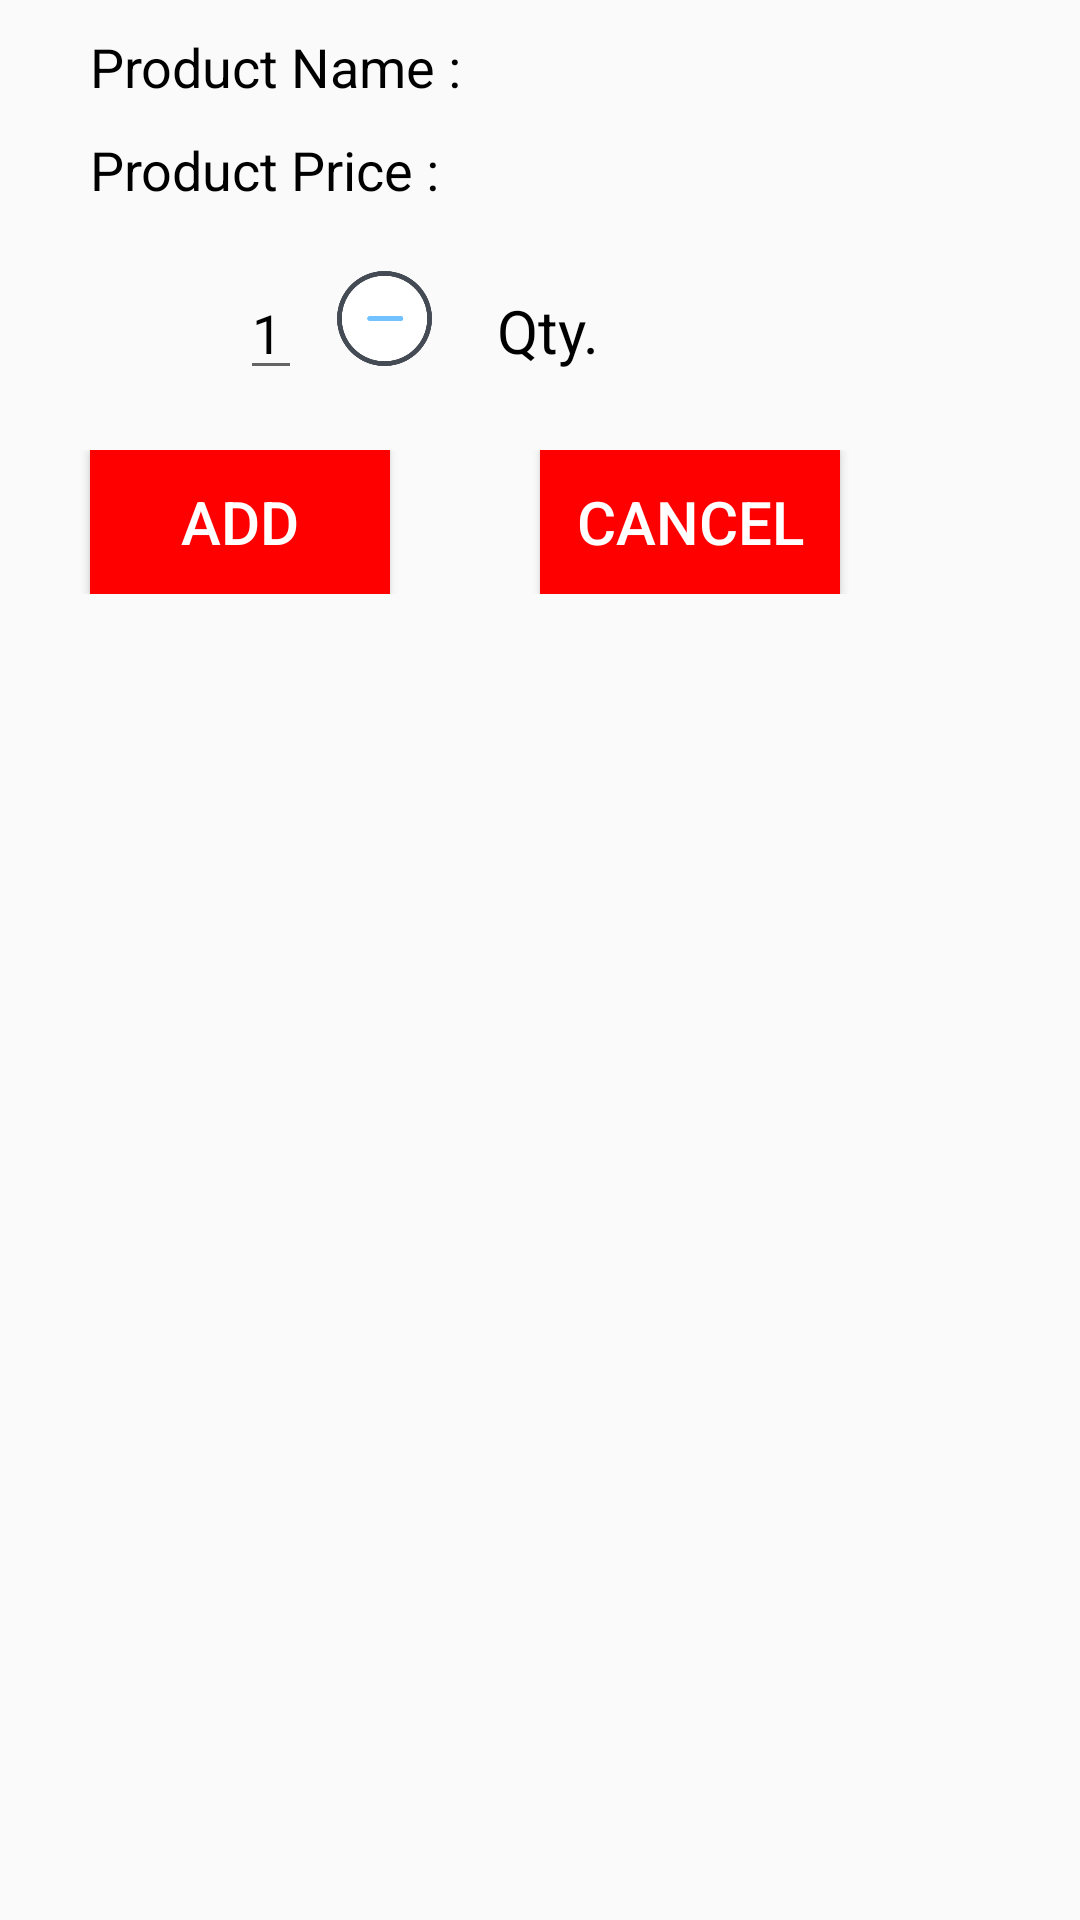

Icons on this 1080w x 1920h Android screen, each with its box as (x1, y1, x2, y2):
minus: (337, 271, 432, 366)
